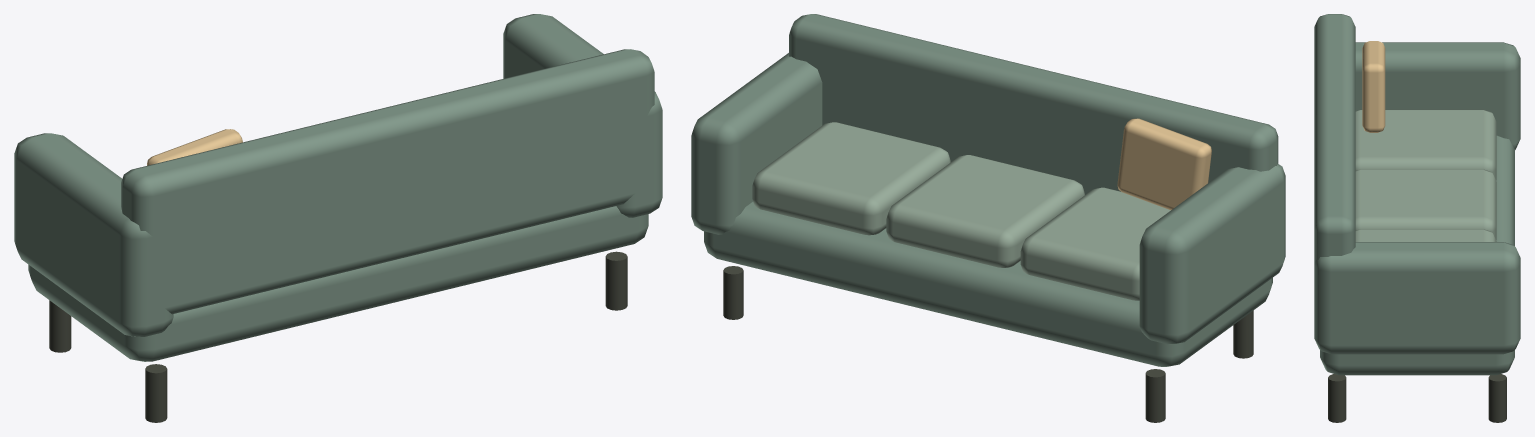
Rendered from reading-sofa.glb.
3 renders of one model, left to right at view 1: azimuth 30°, elevation 25°; view 2: azimuth 150°, elevation 25°; view 3: azimuth 270°, elevation 25°, orthographic. The views are drawn at different scales.
Size of the model in its own units: 2.28 by 1.01 by 0.9.
